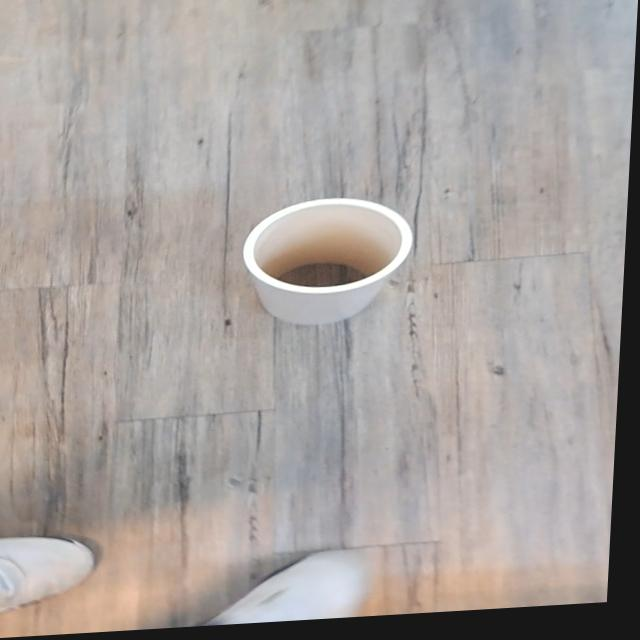CORAL: (213, 156, 428, 338)
